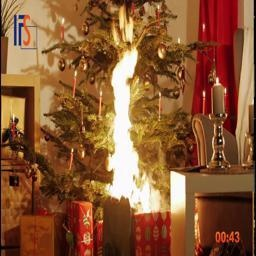fire: (101, 22, 167, 214)
